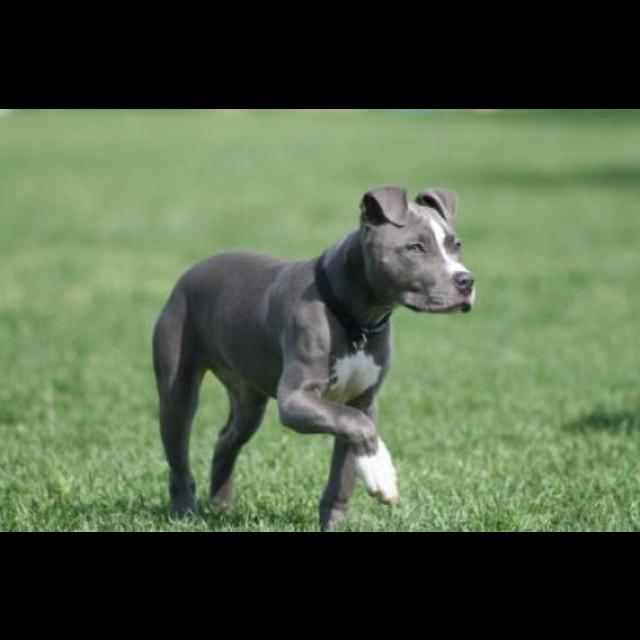am_pit_bull_terrier: (151, 185, 476, 532)
